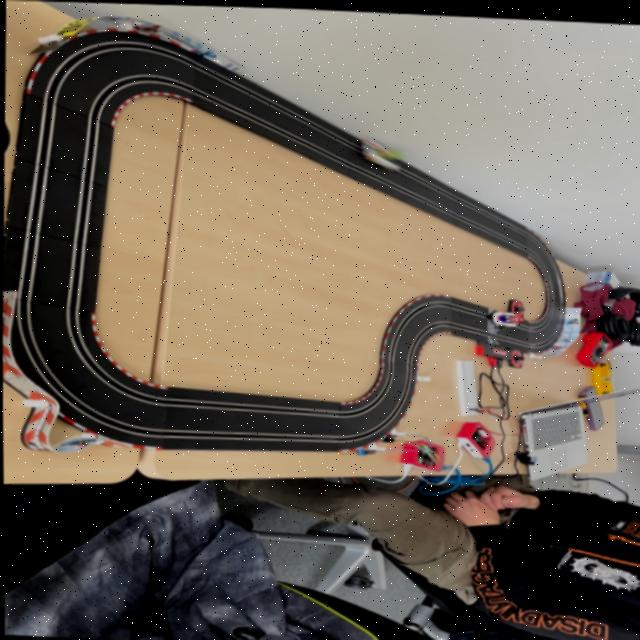mario: (489, 307, 525, 325)
yoshi: (358, 136, 411, 171)
